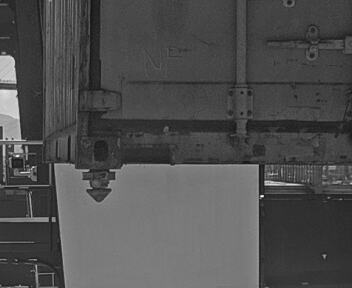twist_lock_2: (76, 168, 120, 215)
